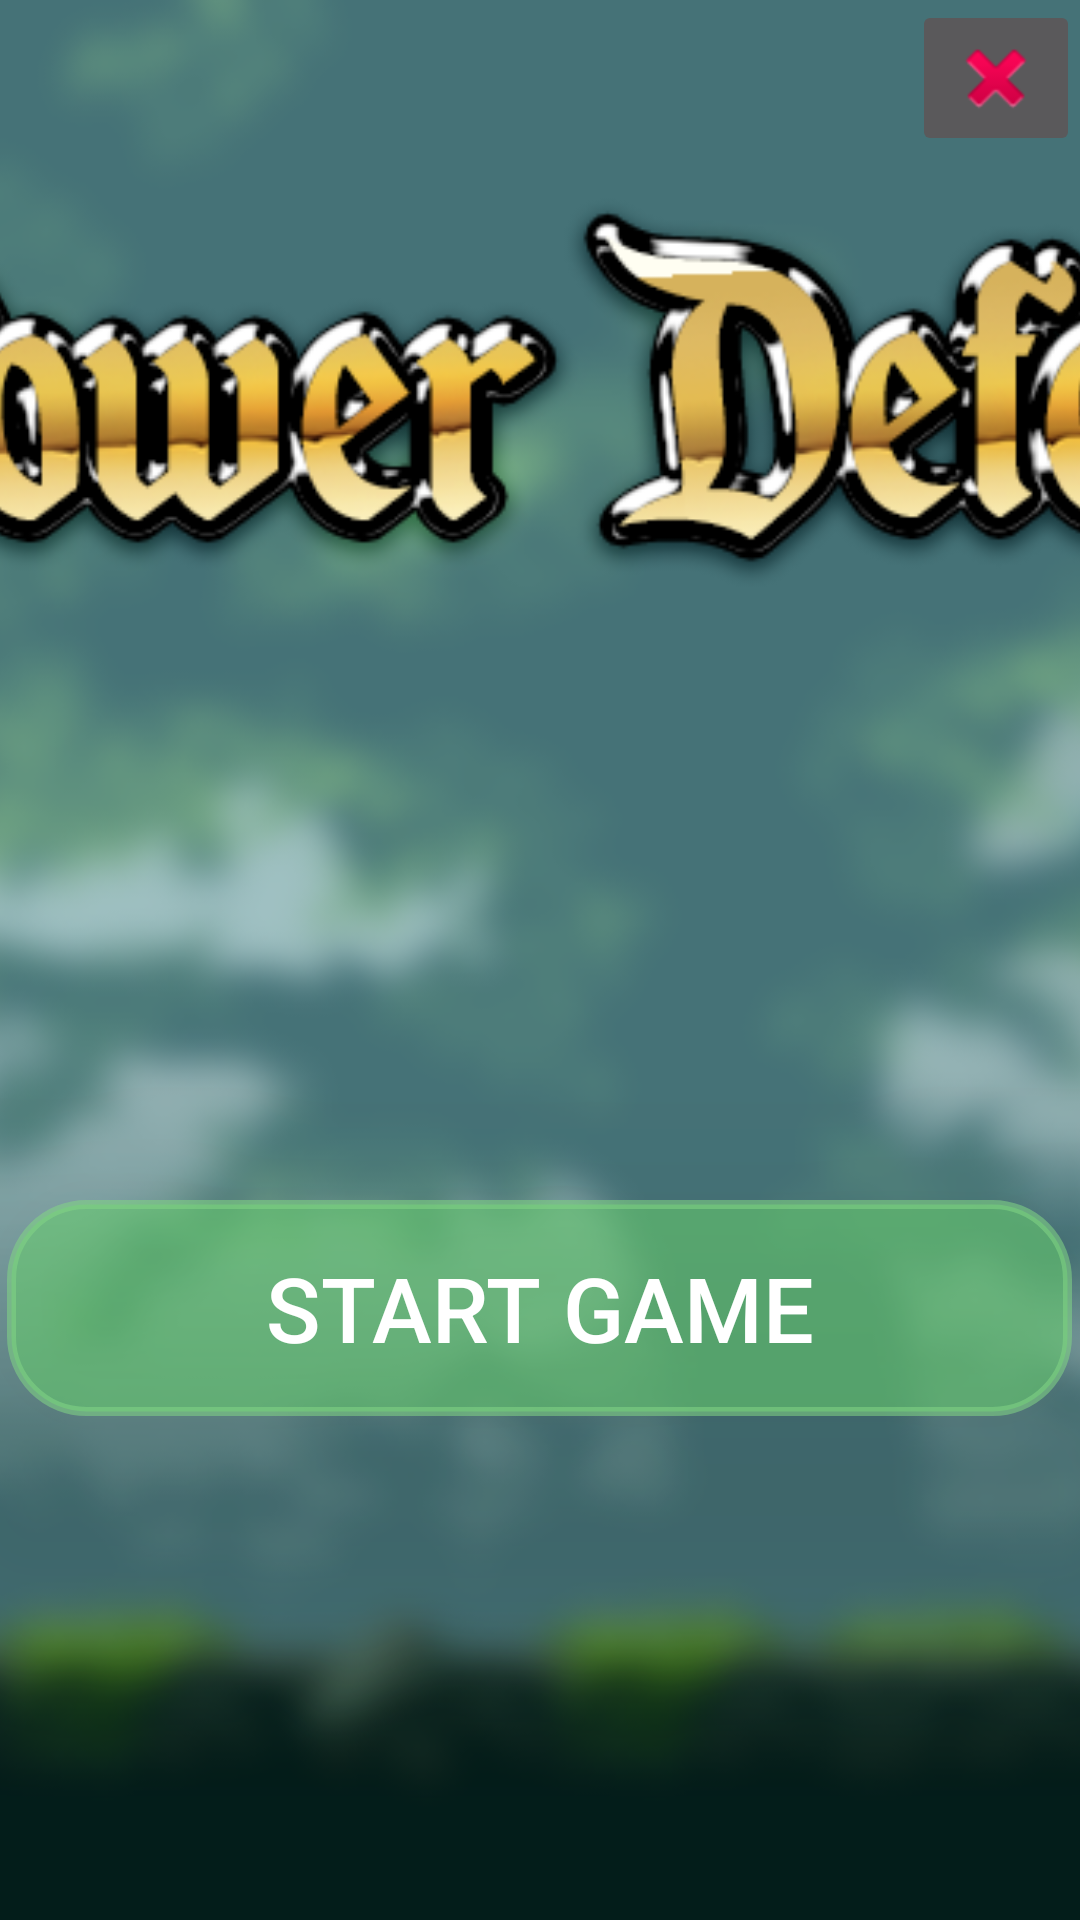

Where to tap for icons on this 1080 x 1920 app screen, as point (x, y):
delete: point (996, 78)
